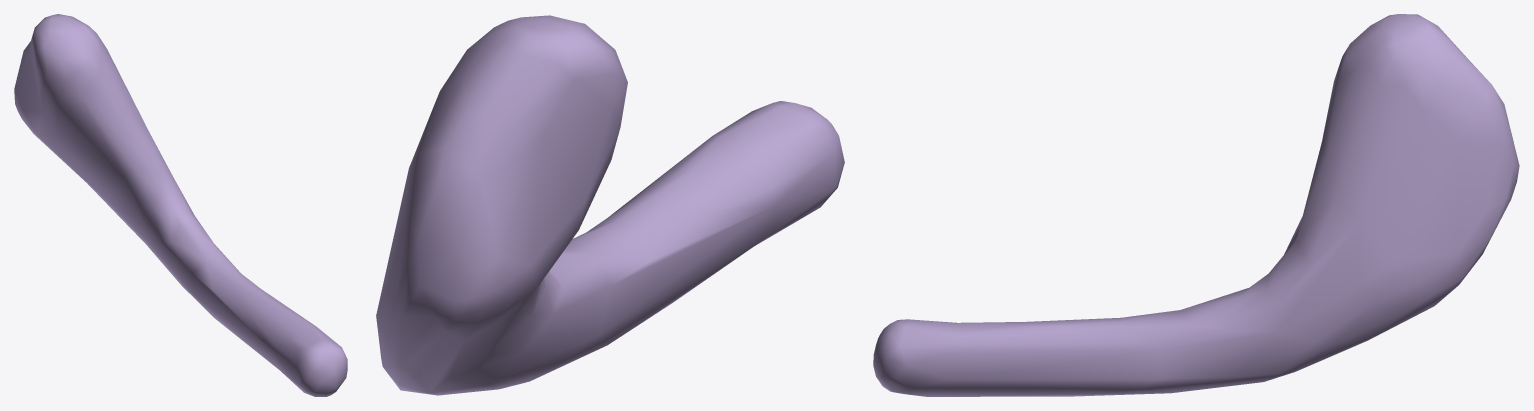
The picture shows the model from 3 angles, left to right: view 1: azimuth 30°, elevation 25°; view 2: azimuth 150°, elevation 25°; view 3: azimuth 270°, elevation 25°; orthographic projection. The views are drawn at different scales.
Parts seen in each view (by area): view 1: 左侧鼻泪管; view 2: 左侧鼻泪管; view 3: 左侧鼻泪管.
Part boxes in pixels (box(x1,y1,x2,y2)): 左侧鼻泪管: box(14, 14, 347, 396); 左侧鼻泪管: box(376, 15, 844, 395); 左侧鼻泪管: box(873, 14, 1519, 396).
Size of the model in its own units: 0.00881 by 0.0171 by 0.0303.
